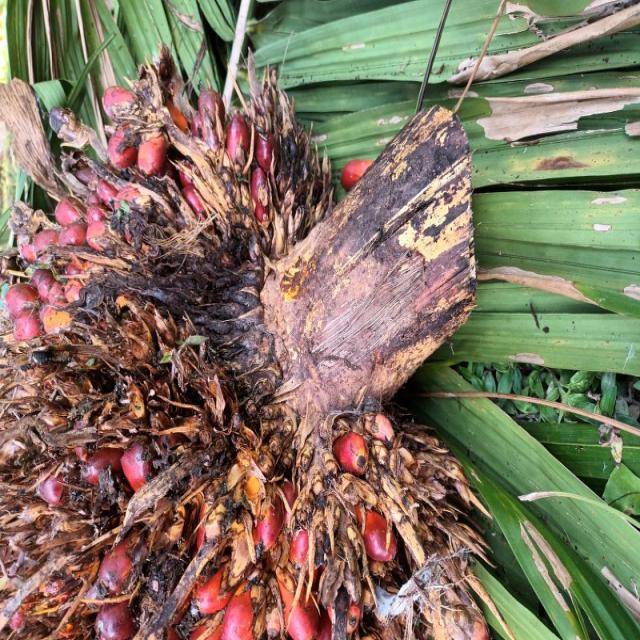fraksi 3: (0, 0, 421, 599)
